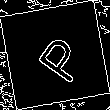P_NW: (24, 25, 86, 85)
